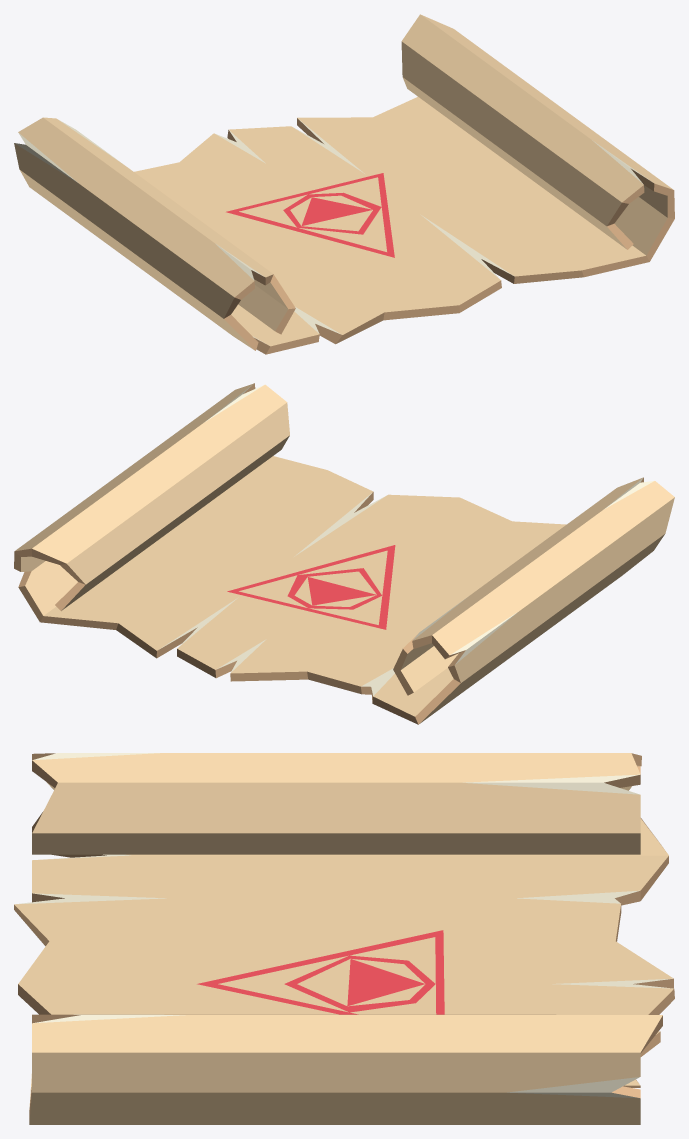
Rendered from PapyrusOpen_01.glb.
3 renders of one model, top to bottom at view 1: azimuth 30°, elevation 25°; view 2: azimuth 150°, elevation 25°; view 3: azimuth 270°, elevation 25°, orthographic. The views are drawn at different scales.
Visible parts, largest first — view 1: PapyrusOpen_01; view 2: PapyrusOpen_01; view 3: PapyrusOpen_01.
Boxes of the visible parts, x1,y1,x2,y2 form: PapyrusOpen_01: (14,14,674,354); PapyrusOpen_01: (14,383,674,724); PapyrusOpen_01: (14,753,674,1124).
Bounding box in the file's own units: 0.6017 × 0.1049 × 0.5657.
Materials: 1 (1 with a texture image).
